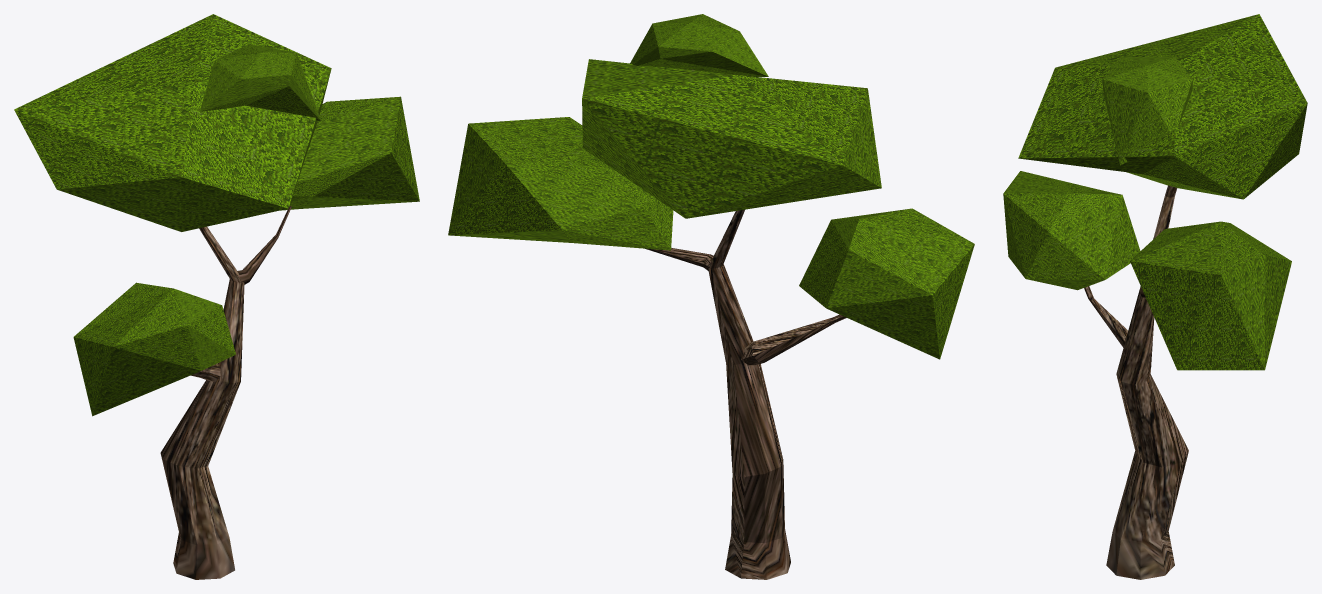
Rendered from Tree.fbx.
The picture shows the model from 3 angles, left to right: view 1: azimuth 30°, elevation 25°; view 2: azimuth 150°, elevation 25°; view 3: azimuth 270°, elevation 25°; orthographic projection. The views are drawn at different scales.
Visible parts, largest first — view 1: Tree; view 2: Tree; view 3: Tree.
Part boxes in pixels (x1,y1,x2,y2): Tree: (14, 14, 419, 579); Tree: (448, 14, 974, 579); Tree: (1003, 14, 1307, 579).
Size of the model in its own units: 894 by 577 by 1114.
